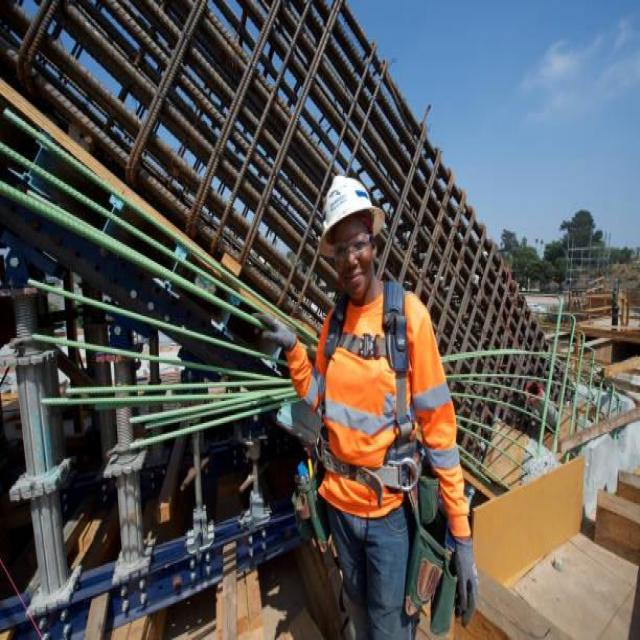belt: (314, 280, 416, 499)
